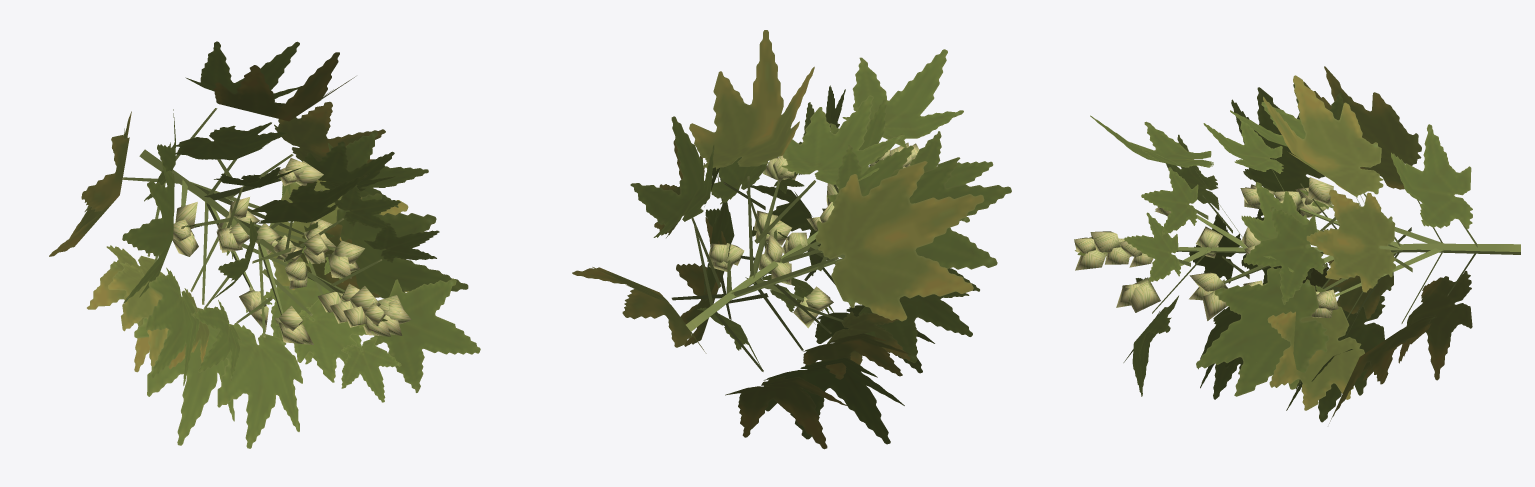
The model's file is p_male_kush_ripe_c1_cards.obj.
3 renders of one model, left to right at view 1: azimuth 30°, elevation 25°; view 2: azimuth 150°, elevation 25°; view 3: azimuth 270°, elevation 25°, orthographic. The views are drawn at different scales.
Bounding box in the file's own units: 1.63 × 1.44 × 1.38.
Materials: 1 (1 with a texture image).
